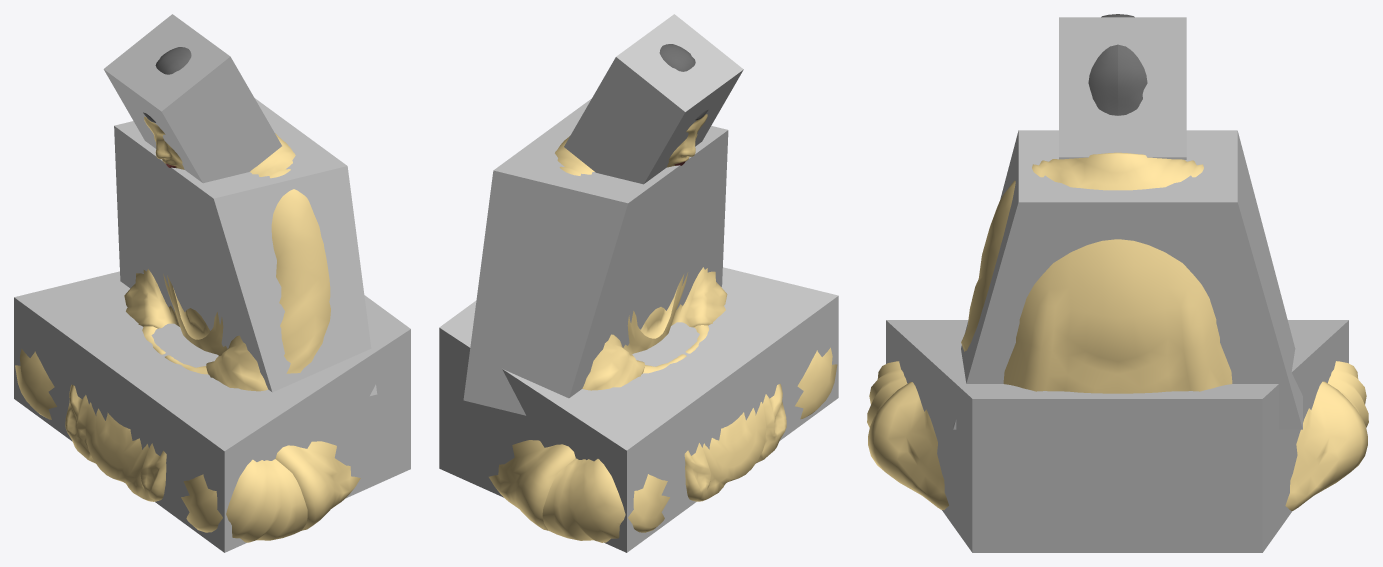
File: SM_Golden_Buddha_02.fbx
3 renders of one model, left to right at view 1: azimuth 30°, elevation 25°; view 2: azimuth 150°, elevation 25°; view 3: azimuth 270°, elevation 25°, orthographic. The views are drawn at different scales.
Visible parts, largest first — view 1: SM_Golden_Buddha_02_ConvexHulls, SM_Golden_Buddha_02; view 2: SM_Golden_Buddha_02_ConvexHulls, SM_Golden_Buddha_02; view 3: SM_Golden_Buddha_02_ConvexHulls, SM_Golden_Buddha_02.
Part boxes in pixels (x1,y1,x2,y2): SM_Golden_Buddha_02_ConvexHulls: (14, 14, 410, 552); SM_Golden_Buddha_02: (15, 47, 360, 542); SM_Golden_Buddha_02_ConvexHulls: (439, 14, 838, 552); SM_Golden_Buddha_02: (489, 44, 837, 542); SM_Golden_Buddha_02_ConvexHulls: (886, 17, 1348, 552); SM_Golden_Buddha_02: (867, 14, 1368, 510).
Size of the model in its own units: 194 by 321 by 325.
2 materials, 1 textured.
